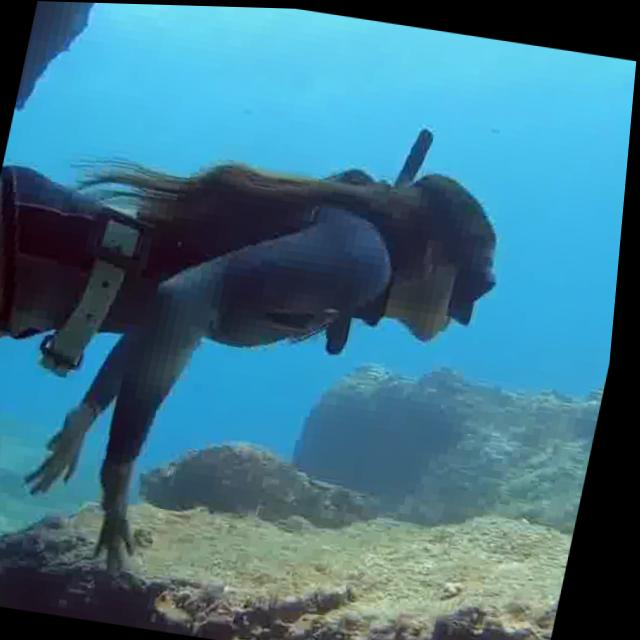human: (0, 57, 533, 629)
